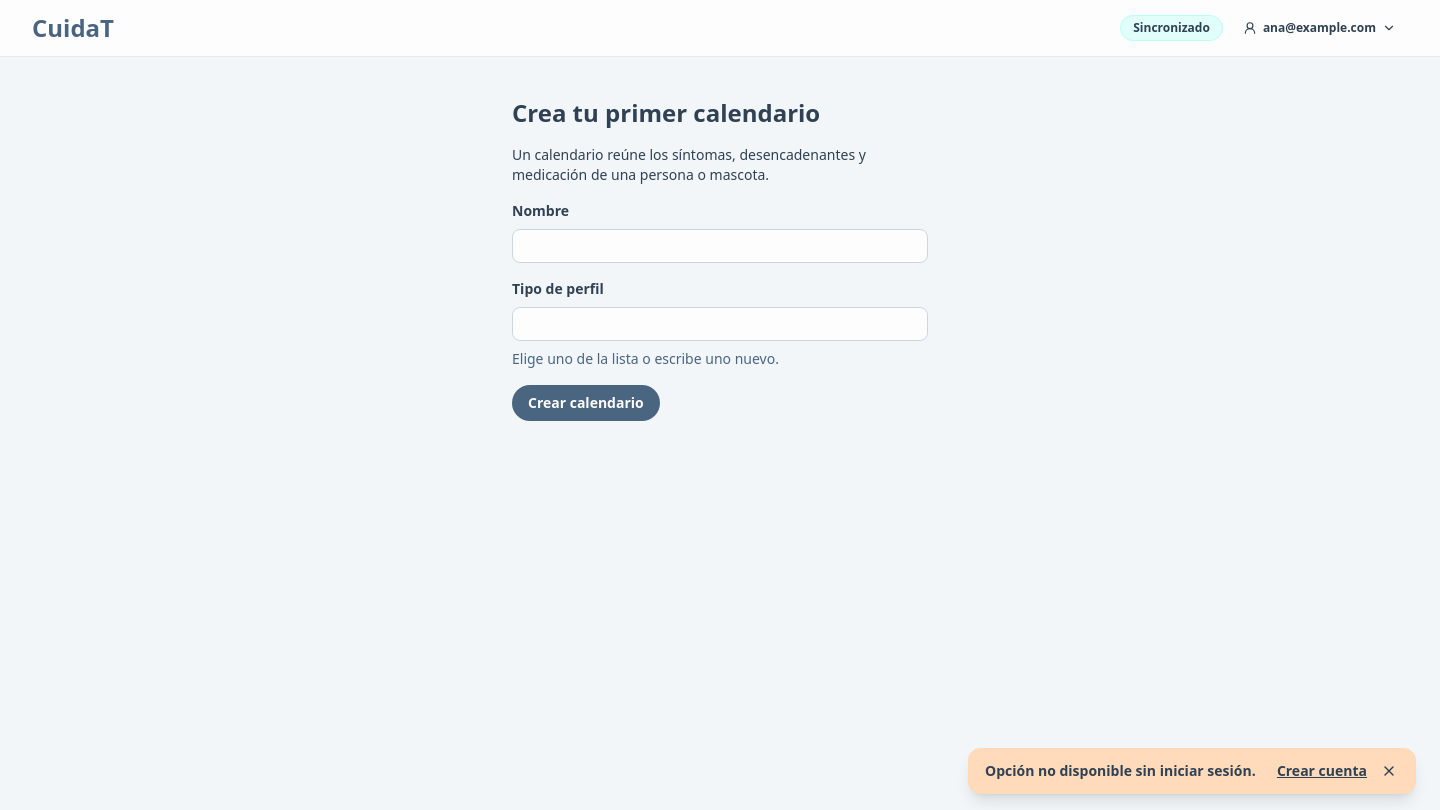
Test: App (Phase 4: calendars, navigation and analytics) › shows «Crea tu primer calendario» for an account without calendars and then opens it
Check: the text "Historial de" is not shown
Type "Ana" into the field labelled "Nombre" at coordinates (720, 246), box [512,229,928,263]
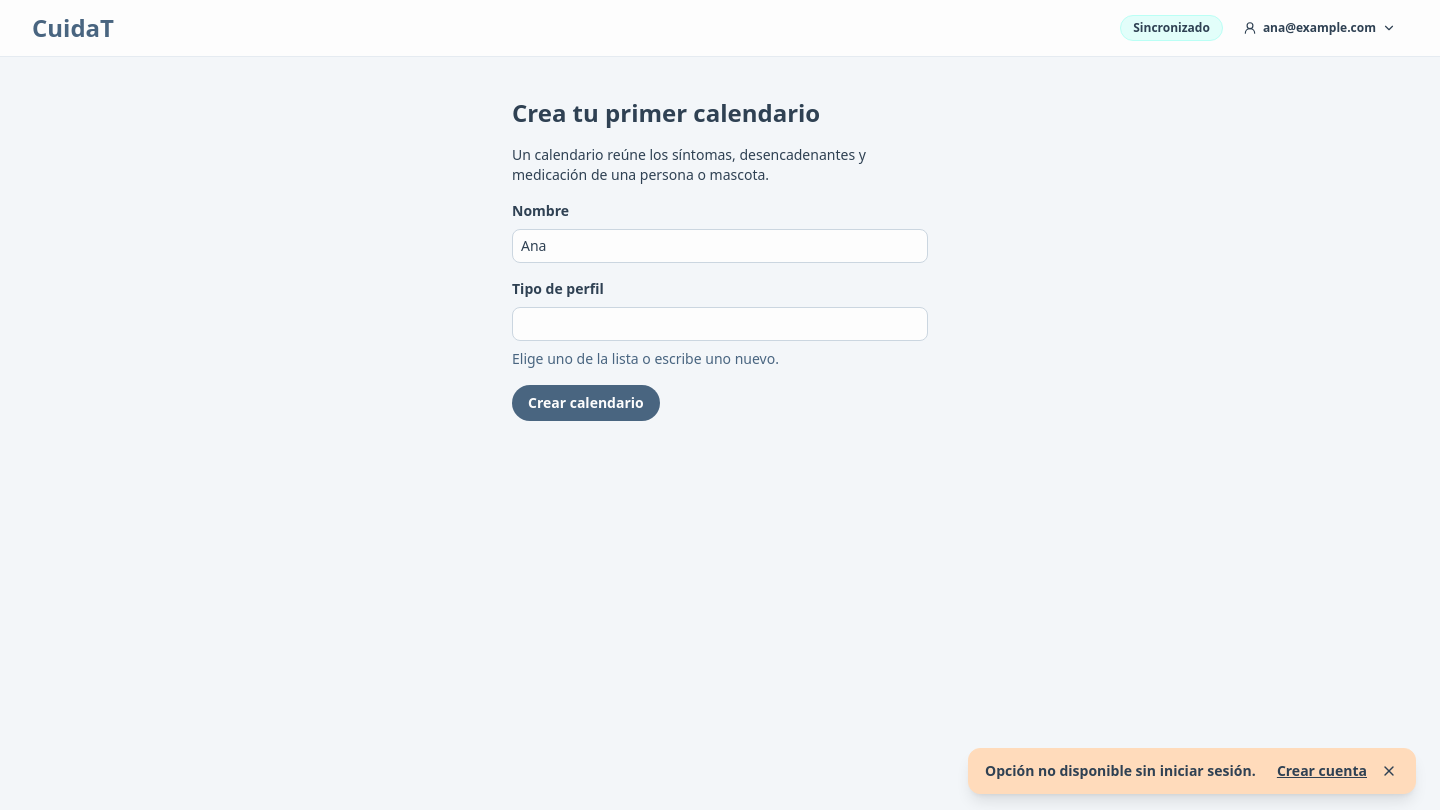
Type "Adulto" into the dropdown labelled "Tipo de perfil Elige uno de la lista o escribe uno nuevo." at coordinates (720, 324), box [512,307,928,341]
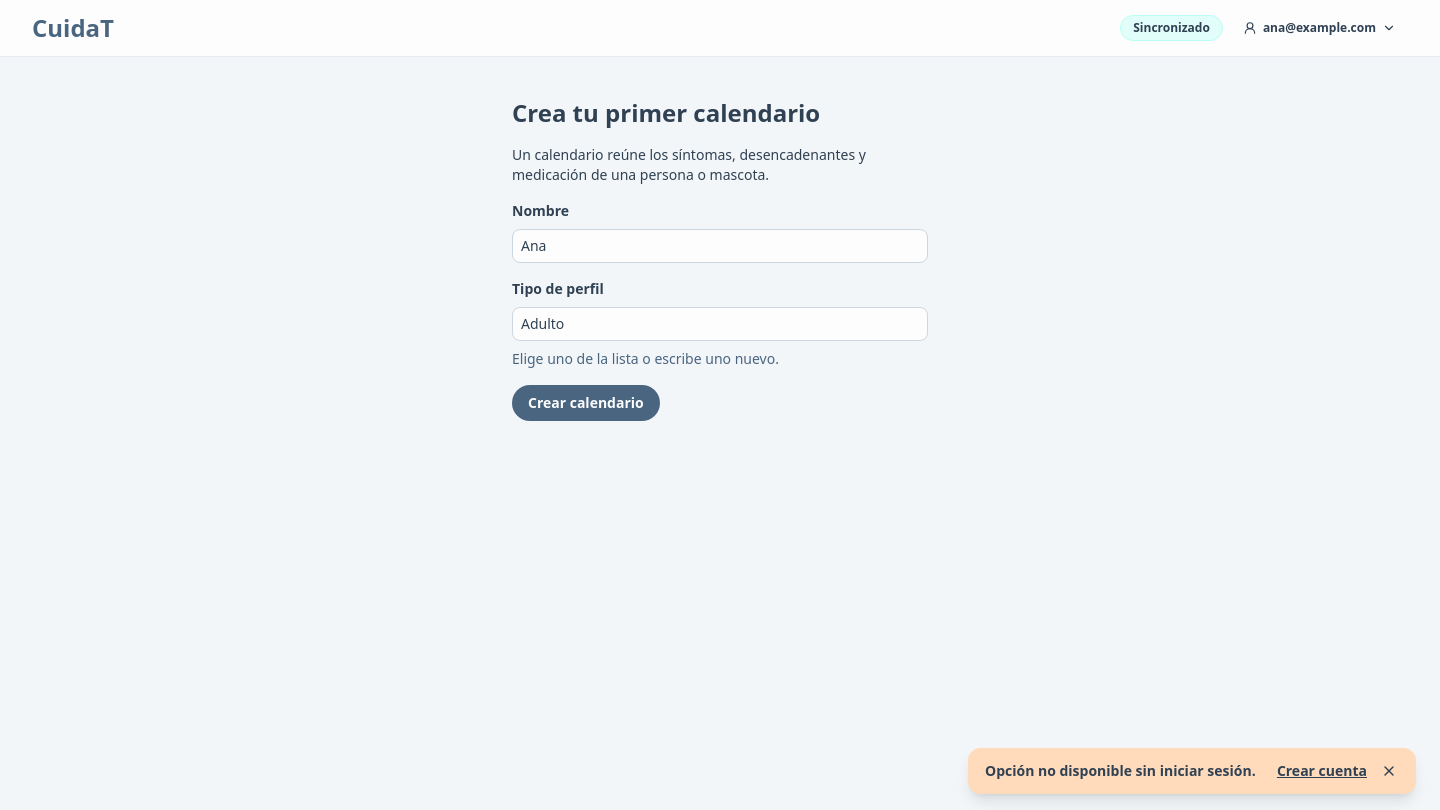
Submit the form, box [512,201,928,421]
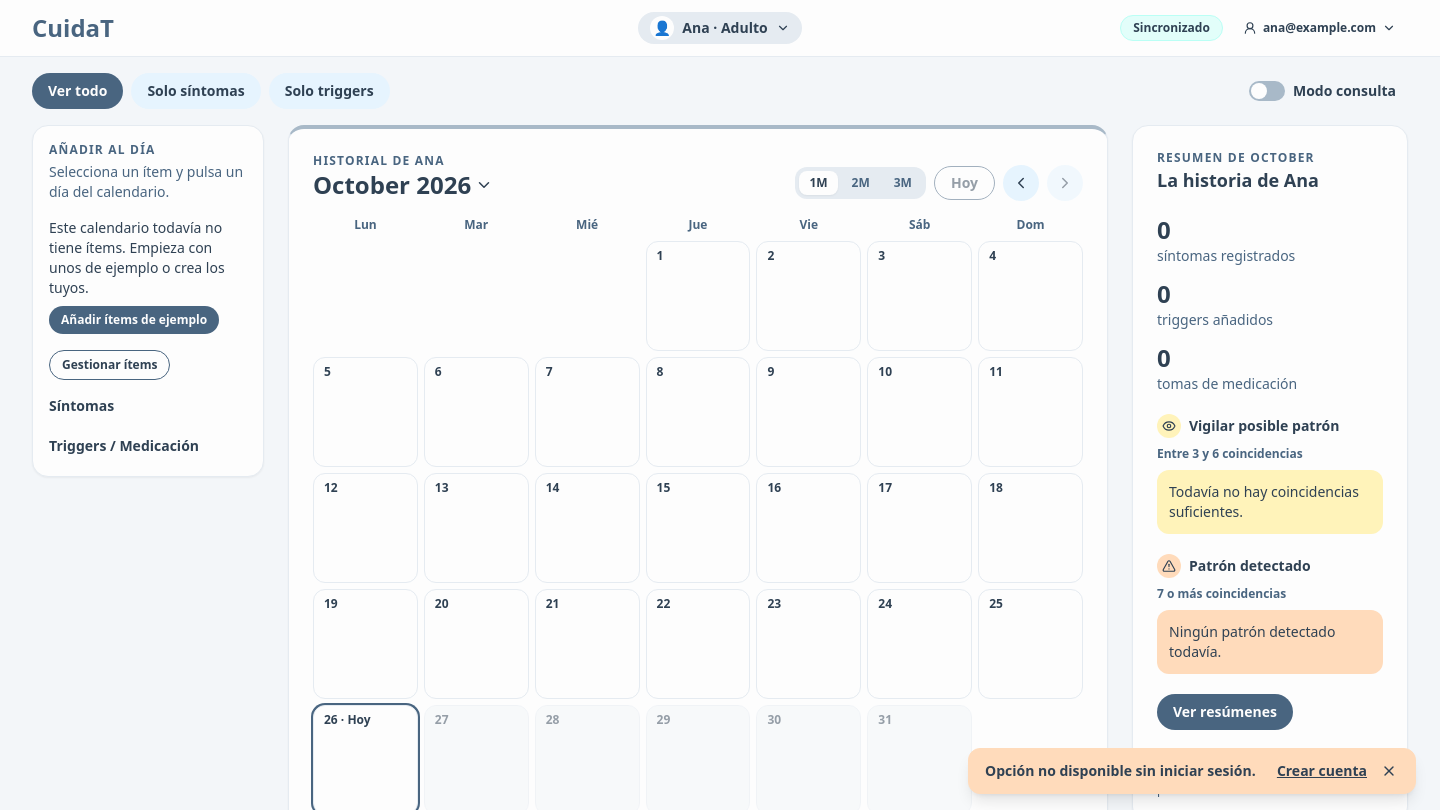
Check: the text "Historial de Ana" is shown, box [313,152,445,169]
Click the button "Añadir ítems de ejemplo" at coordinates (134, 320), box [49,306,219,334]
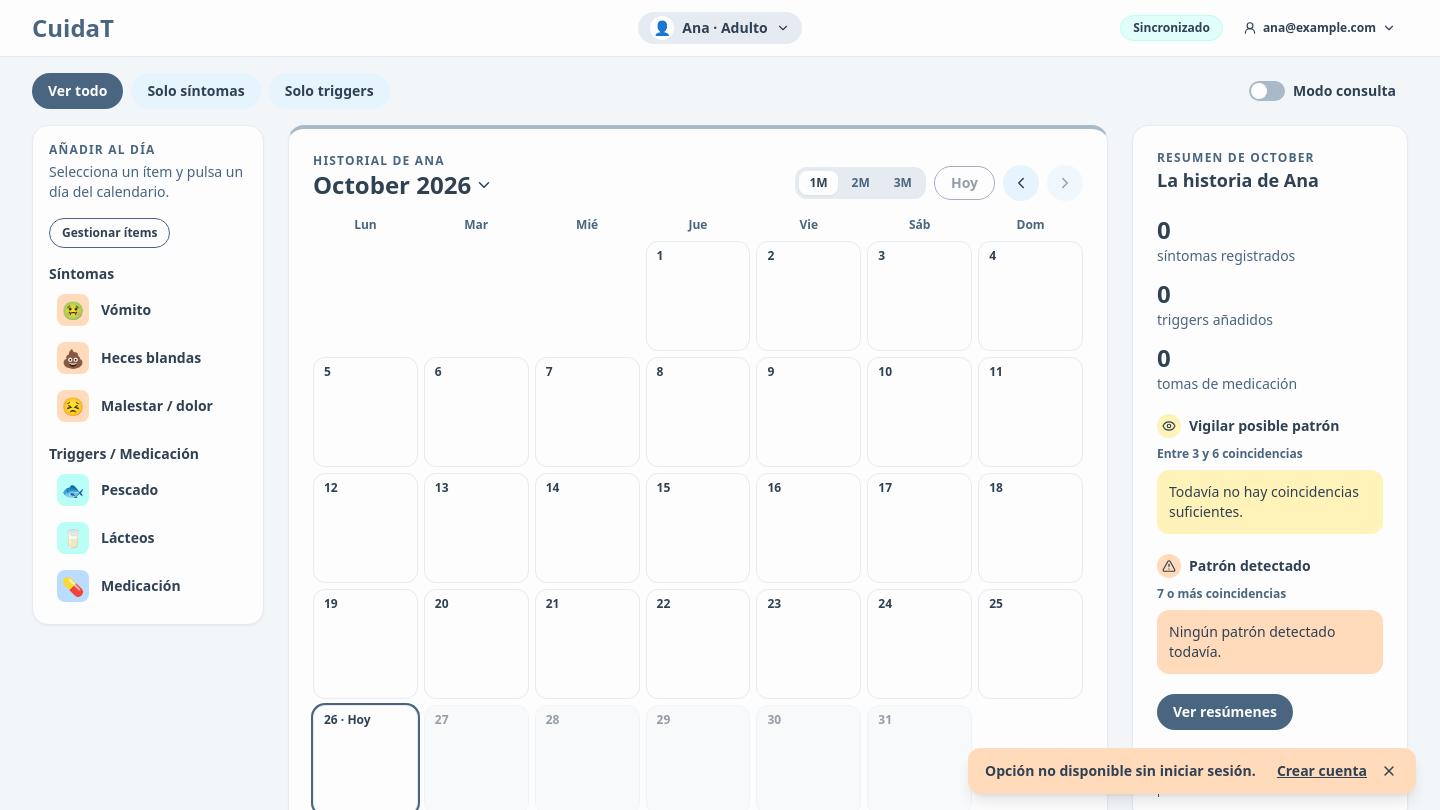
Check: the text "Vómito" is shown, box [101,301,151,319]
Check: the text "Añadir ítems de ejemplo" is gone
